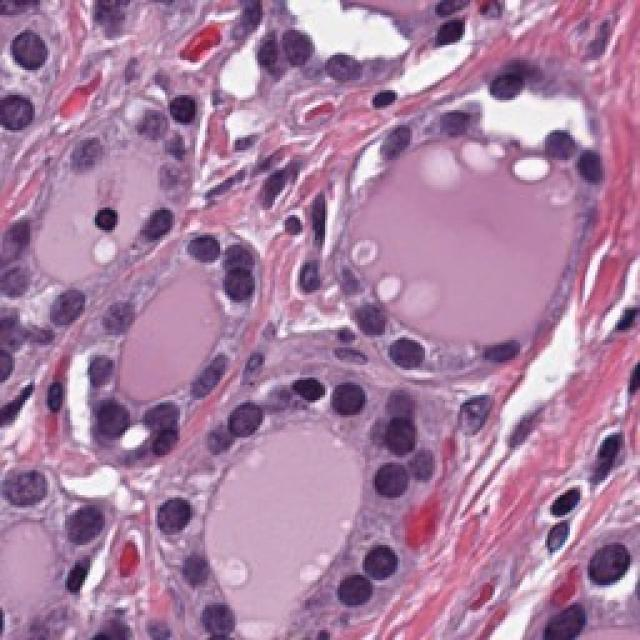normal: (302, 33, 398, 115), (30, 262, 110, 352), (141, 477, 218, 555), (322, 566, 401, 640), (433, 372, 500, 450), (0, 439, 65, 518), (55, 487, 116, 568), (322, 358, 384, 437), (170, 339, 248, 401), (347, 524, 416, 593), (183, 585, 266, 640), (364, 452, 428, 520), (341, 284, 406, 348), (372, 105, 436, 167), (122, 189, 180, 257), (223, 386, 273, 460), (179, 214, 230, 284), (382, 328, 445, 381), (531, 116, 594, 169), (572, 133, 614, 199)
